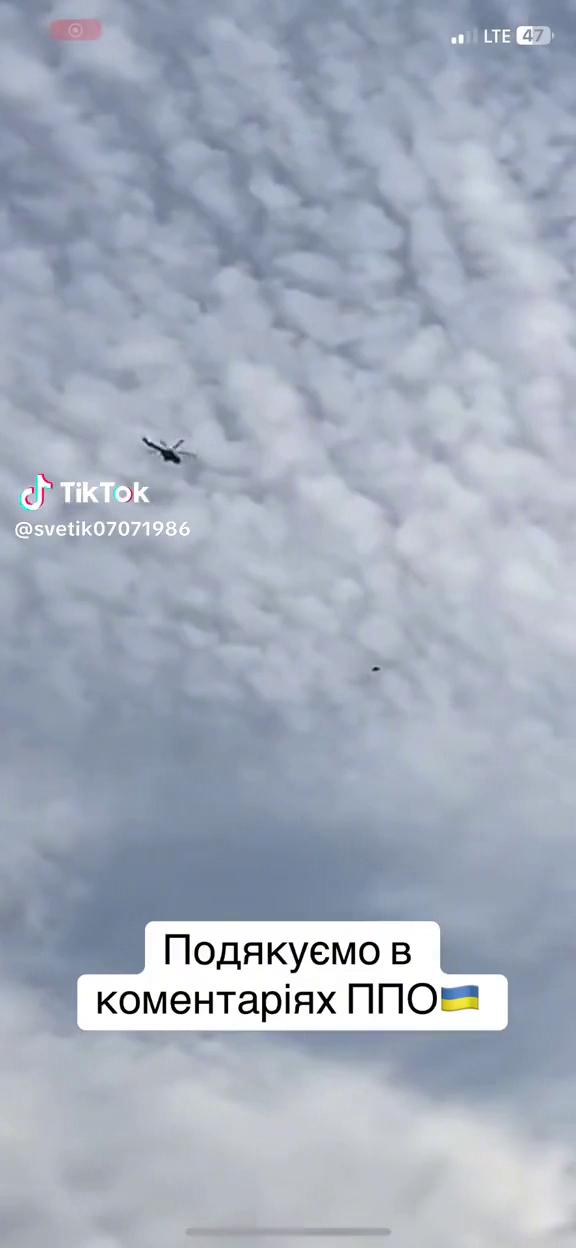not_drone: (135, 428, 200, 472)
